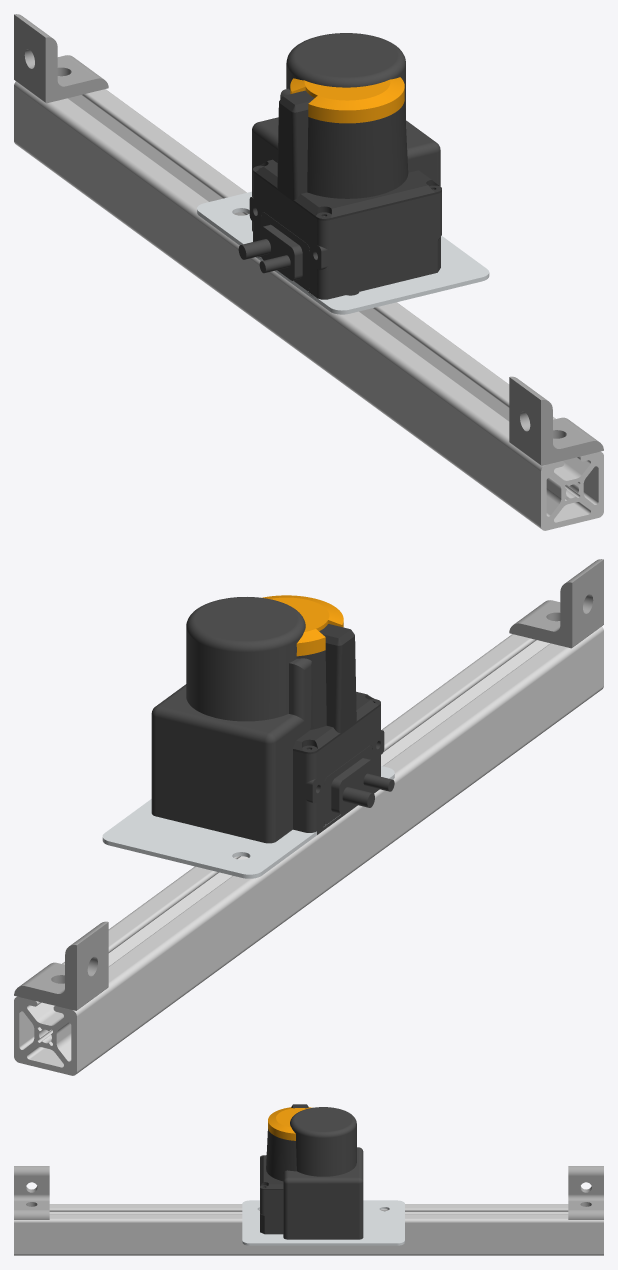
The model's file is hokuyo FBX.fbx.
3 renders of one model, top to bottom at view 1: azimuth 30°, elevation 25°; view 2: azimuth 150°, elevation 25°; view 3: azimuth 270°, elevation 25°, orthographic. The views are drawn at different scales.
Parts seen in each view (by area): view 1: Body1, Body5, Body4, Body8, Body9, Body6, Body7, Body2, Body3; view 2: Body1, Body8, Body9, Body5, Body4, Body7, Body6, Body3, Body2; view 3: Body1, Body8, Body9, Body6, Body7, Body5, Body4, Body2.
Boxes of the visible parts, bbox=[...] form: Body1: bbox=[14, 81, 603, 530]; Body5: bbox=[253, 90, 441, 220]; Body4: bbox=[249, 172, 441, 299]; Body8: bbox=[252, 33, 440, 231]; Body9: bbox=[197, 191, 489, 314]; Body6: bbox=[509, 376, 603, 465]; Body7: bbox=[14, 14, 108, 103]; Body2: bbox=[290, 77, 404, 123]; Body3: bbox=[238, 212, 309, 291]; Body1: bbox=[14, 626, 603, 1075]; Body8: bbox=[151, 597, 311, 843]; Body9: bbox=[102, 766, 394, 878]; Body5: bbox=[293, 624, 380, 754]; Body4: bbox=[293, 705, 384, 834]; Body7: bbox=[14, 921, 108, 1010]; Body6: bbox=[509, 559, 603, 648]; Body3: bbox=[324, 745, 394, 824]; Body2: bbox=[262, 595, 343, 656]; Body1: bbox=[14, 1204, 603, 1255]; Body8: bbox=[283, 1107, 363, 1239]; Body9: bbox=[242, 1200, 404, 1245]; Body6: bbox=[14, 1166, 49, 1219]; Body7: bbox=[568, 1166, 603, 1219]; Body5: bbox=[260, 1104, 308, 1189]; Body4: bbox=[260, 1187, 283, 1234]; Body2: bbox=[268, 1107, 312, 1140].
Size of the model in its own units: 3.02 by 3.86 by 14.5.
